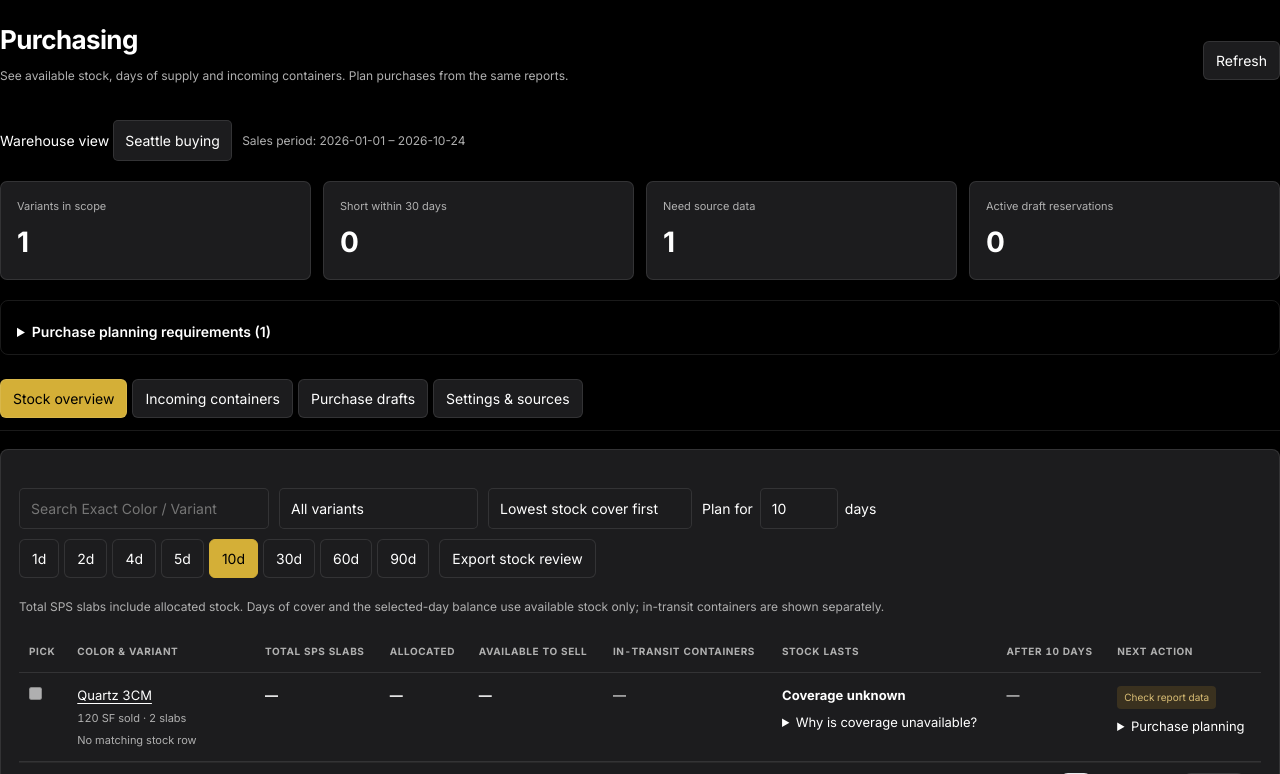
purchasing workbench rendering › shows actual blockers and unknown availability without offering a buy quantity
This screenshot has width=1280, height=774.
Expected: the checkbox named "Select Quartz 3CM" is disabled, [29,686,42,700]
Click the button "Quartz 3CM". click: [115, 695]
box: [77,686,152,705]
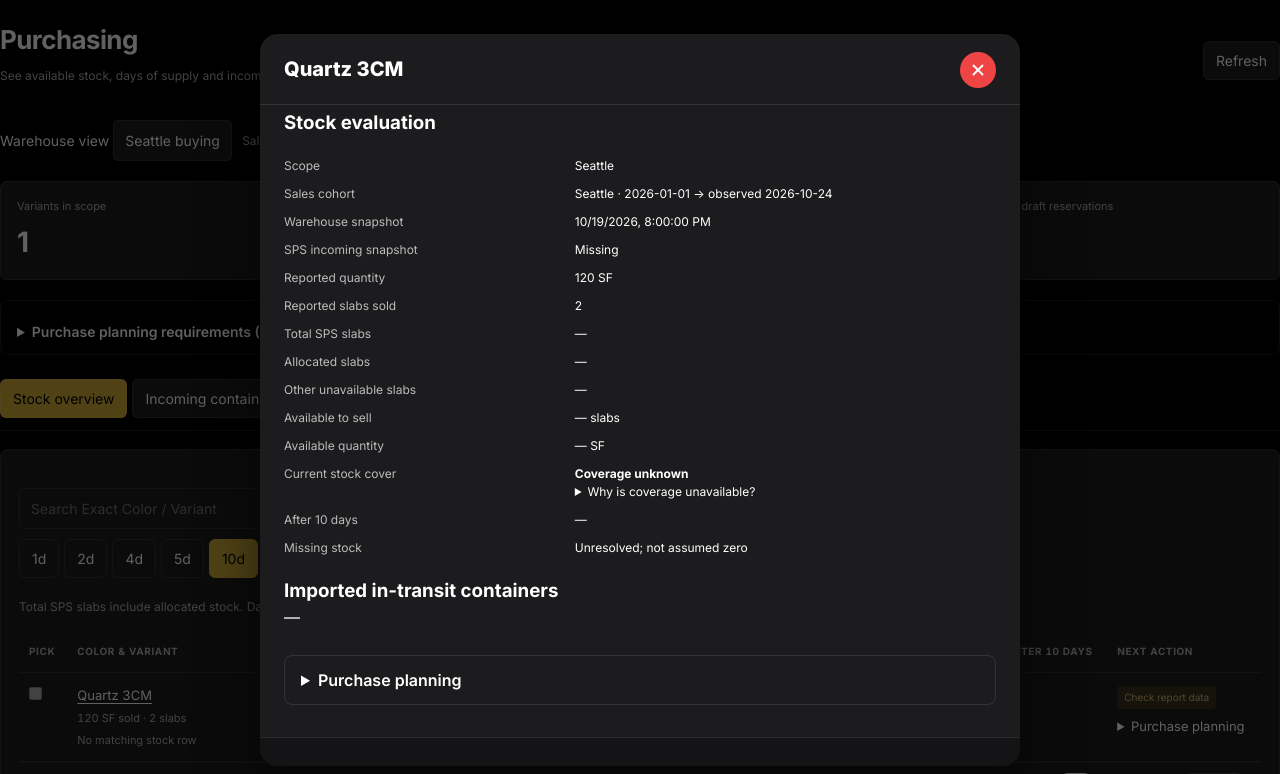
Expected: the heading "Stock evaluation" is shown, [284,111,436,134]
Expected: the text "Unresolved; not assumed zero" is shown, [575,540,748,555]
